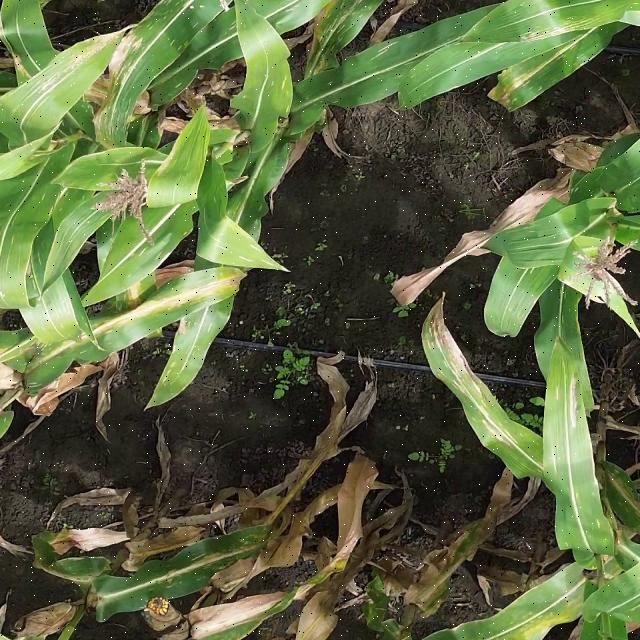gray-leaf-spot: (31, 4, 216, 153), (40, 273, 227, 397), (420, 317, 552, 480), (479, 9, 617, 108), (290, 3, 393, 90), (31, 162, 122, 244)
northern-leaf-blight: (547, 354, 604, 449)
southern-leaf-blight: (415, 559, 598, 640), (101, 523, 277, 596)
